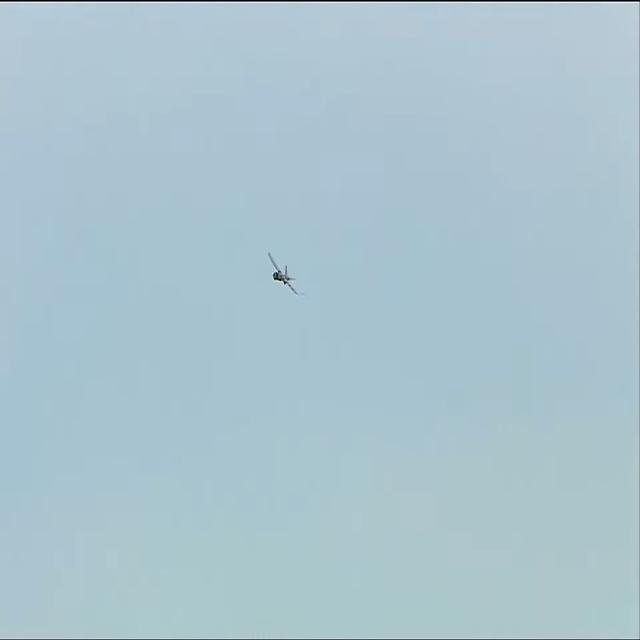iha: (267, 250, 301, 297)
